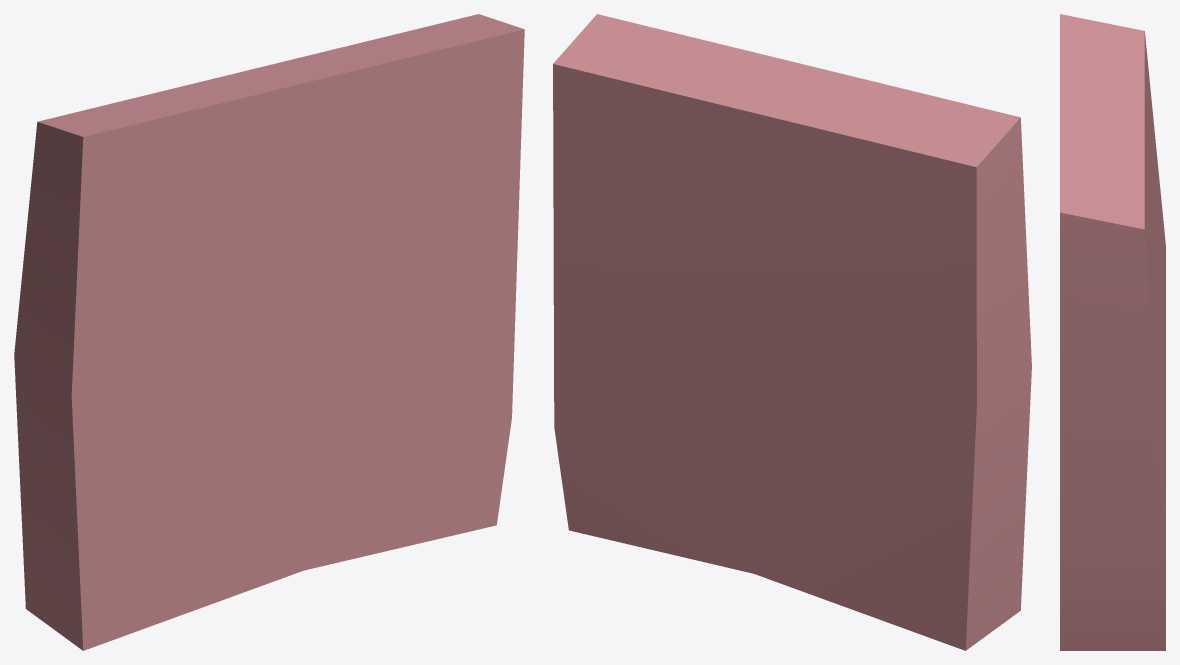
Rendered from Stone_Brick_002_c.FBX.
3 views of the same model, side by side, from view 1: azimuth 30°, elevation 25°; view 2: azimuth 150°, elevation 25°; view 3: azimuth 270°, elevation 25° (orthographic). The views are drawn at different scales.
Visible parts, largest first — view 1: Stone_Brick_002_c_LOD0; view 2: Stone_Brick_002_c_LOD0; view 3: Stone_Brick_002_c_LOD0.
Part boxes in pixels (x1,y1,x2,y2): Stone_Brick_002_c_LOD0: [14, 14, 524, 650]; Stone_Brick_002_c_LOD0: [553, 14, 1031, 650]; Stone_Brick_002_c_LOD0: [1060, 14, 1165, 650].
Size of the model in its own units: 63.65 by 13.97 by 68.99.
